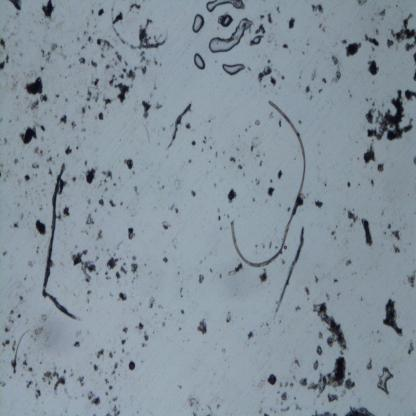Air bubble: (208, 17, 254, 55), (378, 365, 394, 396), (206, 1, 247, 12), (221, 62, 246, 76), (191, 14, 206, 34), (193, 52, 207, 72), (251, 34, 265, 46)
Background material: (42, 162, 82, 318), (366, 88, 416, 143), (314, 300, 347, 354), (308, 356, 348, 393), (390, 13, 416, 54), (11, 328, 31, 376), (382, 297, 405, 338), (72, 249, 97, 283), (43, 369, 68, 396), (360, 216, 374, 249), (139, 18, 153, 46), (24, 76, 44, 95), (186, 394, 204, 415), (345, 39, 363, 59), (114, 80, 129, 104), (362, 143, 378, 165), (26, 378, 42, 400), (40, 44, 59, 62), (330, 56, 342, 84), (346, 403, 375, 414), (20, 127, 38, 144), (257, 65, 272, 83), (31, 322, 46, 340), (42, 0, 56, 19), (96, 37, 114, 51), (87, 390, 101, 408), (141, 98, 152, 120), (228, 262, 244, 277), (364, 33, 380, 48), (86, 85, 100, 102), (310, 2, 326, 16), (35, 218, 47, 236), (406, 271, 416, 292), (121, 157, 135, 172), (61, 202, 72, 220), (346, 210, 360, 224), (9, 0, 23, 14), (249, 135, 261, 151), (372, 7, 388, 19), (85, 167, 96, 184), (198, 318, 208, 336), (20, 352, 30, 370), (369, 58, 379, 76), (286, 14, 296, 32), (226, 187, 237, 203), (326, 392, 340, 404), (310, 410, 338, 416), (107, 256, 119, 270), (30, 96, 40, 112), (404, 88, 416, 101), (128, 2, 141, 14), (391, 229, 402, 243), (345, 377, 356, 391), (102, 94, 113, 108), (127, 68, 138, 82), (34, 144, 45, 158), (99, 177, 108, 194), (105, 405, 122, 414), (76, 374, 86, 389), (266, 30, 277, 43), (111, 360, 121, 374), (86, 212, 96, 226), (147, 295, 156, 310), (139, 50, 148, 65), (365, 357, 374, 372), (104, 376, 113, 391), (80, 104, 92, 115), (254, 24, 266, 35), (137, 320, 146, 334), (114, 49, 123, 63), (127, 227, 136, 241), (315, 344, 324, 358), (412, 51, 416, 82), (113, 12, 124, 23), (9, 80, 20, 91), (260, 269, 268, 284), (292, 358, 302, 370), (314, 198, 324, 210), (97, 345, 105, 360), (108, 73, 116, 88), (392, 242, 401, 255), (119, 264, 128, 277), (366, 110, 374, 124), (312, 358, 320, 372), (141, 331, 148, 347), (120, 334, 128, 348), (105, 168, 113, 182), (377, 161, 385, 175), (258, 408, 272, 416), (206, 405, 216, 416), (279, 391, 289, 402), (118, 291, 128, 302), (0, 337, 10, 348), (34, 121, 45, 131), (267, 186, 276, 198), (197, 272, 206, 284), (226, 309, 233, 324), (131, 262, 139, 275), (24, 258, 34, 268), (59, 114, 68, 125), (266, 12, 273, 26), (310, 68, 317, 82), (408, 340, 414, 356), (64, 144, 72, 156), (109, 197, 117, 209), (162, 254, 170, 266), (305, 284, 311, 300), (270, 76, 278, 88), (31, 161, 41, 170), (292, 401, 301, 411), (104, 61, 114, 70), (280, 405, 290, 414), (251, 176, 260, 186), (162, 220, 170, 231), (330, 229, 338, 240), (40, 92, 48, 103), (324, 291, 332, 302), (0, 163, 5, 180), (304, 83, 311, 95), (172, 237, 179, 249), (40, 312, 48, 322), (7, 314, 15, 324), (185, 121, 193, 131), (280, 42, 290, 50), (152, 56, 160, 66), (96, 230, 104, 240), (97, 7, 105, 17), (386, 38, 394, 48), (317, 24, 327, 32), (359, 0, 369, 8), (122, 60, 128, 73), (0, 59, 6, 72), (300, 376, 307, 387), (37, 202, 44, 213), (47, 154, 54, 165), (246, 330, 254, 339), (274, 68, 282, 77), (3, 325, 11, 334), (0, 38, 6, 50), (168, 201, 177, 209), (295, 304, 304, 312), (202, 135, 209, 145), (98, 112, 105, 122), (141, 65, 148, 75), (24, 172, 31, 182), (74, 338, 80, 349), (116, 269, 121, 282), (97, 198, 105, 206), (2, 248, 10, 256), (90, 60, 98, 68), (253, 118, 261, 126), (236, 164, 245, 171), (12, 219, 18, 229), (133, 185, 139, 195), (313, 274, 319, 284), (174, 206, 180, 216), (276, 169, 282, 179), (93, 77, 99, 87), (280, 257, 286, 267), (374, 27, 380, 37), (12, 158, 20, 165), (103, 271, 110, 279), (156, 104, 163, 112), (78, 57, 86, 64), (180, 284, 184, 298), (215, 402, 222, 410), (160, 321, 168, 328), (5, 53, 10, 64), (268, 240, 274, 249), (112, 396, 121, 402), (346, 258, 352, 267), (72, 121, 78, 130), (16, 311, 22, 320), (386, 222, 392, 231), (122, 325, 128, 334), (268, 110, 274, 119), (130, 274, 135, 284), (191, 138, 196, 148), (219, 346, 226, 353), (132, 255, 138, 263), (192, 190, 198, 198), (107, 353, 115, 359), (18, 294, 24, 302), (152, 83, 158, 91), (358, 294, 364, 302), (9, 307, 15, 315), (346, 180, 352, 188), (88, 36, 94, 44), (230, 155, 236, 163), (208, 266, 214, 274), (369, 179, 374, 188), (48, 168, 53, 177), (278, 119, 282, 130), (100, 170, 106, 177), (251, 198, 257, 205), (92, 364, 99, 370), (87, 289, 93, 296), (208, 116, 214, 123), (215, 208, 222, 214), (321, 77, 327, 84), (18, 178, 23, 186), (221, 148, 226, 156), (4, 136, 8, 145), (254, 152, 260, 158), (119, 73, 125, 79), (80, 44, 86, 50), (39, 66, 45, 72), (336, 293, 342, 299), (413, 155, 416, 167), (322, 181, 328, 187), (341, 39, 347, 45), (276, 7, 282, 13), (208, 145, 214, 151), (214, 150, 218, 159), (284, 381, 289, 388), (87, 198, 91, 206), (219, 272, 223, 280), (38, 357, 42, 365), (112, 181, 118, 186), (55, 93, 61, 98), (130, 83, 135, 89), (67, 63, 72, 69), (289, 382, 294, 388), (1, 381, 6, 387), (7, 117, 12, 123), (348, 92, 353, 98), (292, 375, 297, 381), (346, 370, 351, 376), (260, 14, 266, 19), (159, 61, 163, 68), (201, 147, 205, 154), (158, 302, 162, 309), (178, 325, 182, 332), (188, 158, 192, 165), (81, 127, 86, 132), (16, 202, 21, 207), (86, 299, 91, 304), (371, 46, 376, 51), (84, 158, 88, 164), (16, 94, 20, 100), (56, 152, 60, 158), (159, 186, 165, 190), (20, 213, 24, 219), (334, 278, 340, 282), (318, 88, 322, 94), (29, 367, 33, 373), (280, 382, 284, 388), (309, 94, 313, 100), (244, 127, 248, 133), (305, 42, 311, 46), (301, 50, 305, 56), (268, 178, 272, 184), (218, 214, 221, 222), (168, 312, 172, 318), (91, 8, 94, 15), (72, 177, 76, 182), (175, 271, 180, 275), (226, 214, 230, 219), (76, 36, 80, 41), (283, 245, 288, 249), (40, 136, 44, 141), (267, 60, 272, 64), (281, 75, 285, 80), (180, 308, 184, 313), (254, 243, 258, 248), (36, 246, 38, 254), (92, 31, 96, 35), (378, 339, 382, 343), (299, 120, 303, 124), (293, 396, 297, 400), (287, 208, 291, 212), (25, 190, 28, 195), (120, 201, 123, 206), (65, 97, 68, 102), (214, 182, 217, 187), (260, 159, 262, 166), (82, 31, 86, 34), (357, 156, 360, 160), (218, 227, 222, 230), (138, 410, 140, 415), (262, 244, 264, 249), (76, 146, 78, 150), (209, 160, 211, 162)
Cellulose filter fibre: (272, 226, 308, 318), (110, 1, 169, 48), (165, 102, 193, 153)
Diatom: (268, 372, 277, 385), (127, 359, 136, 371)
Microfibre: (230, 102, 307, 270)
